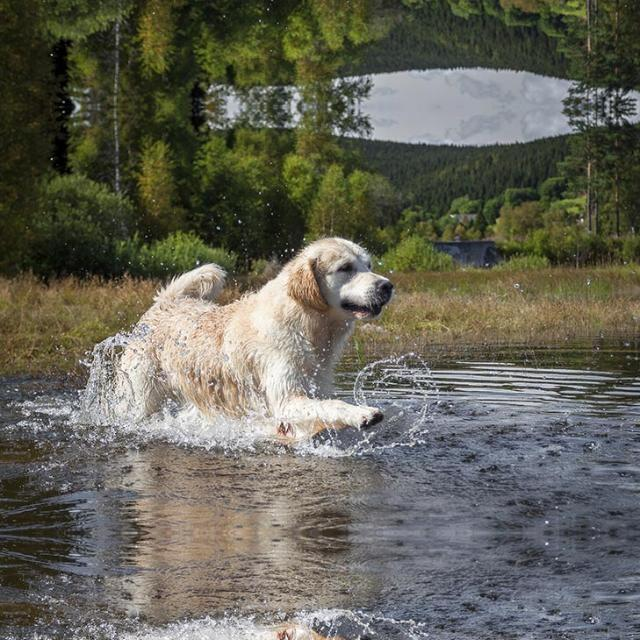dog: (128, 221, 410, 451), (128, 614, 410, 640)
